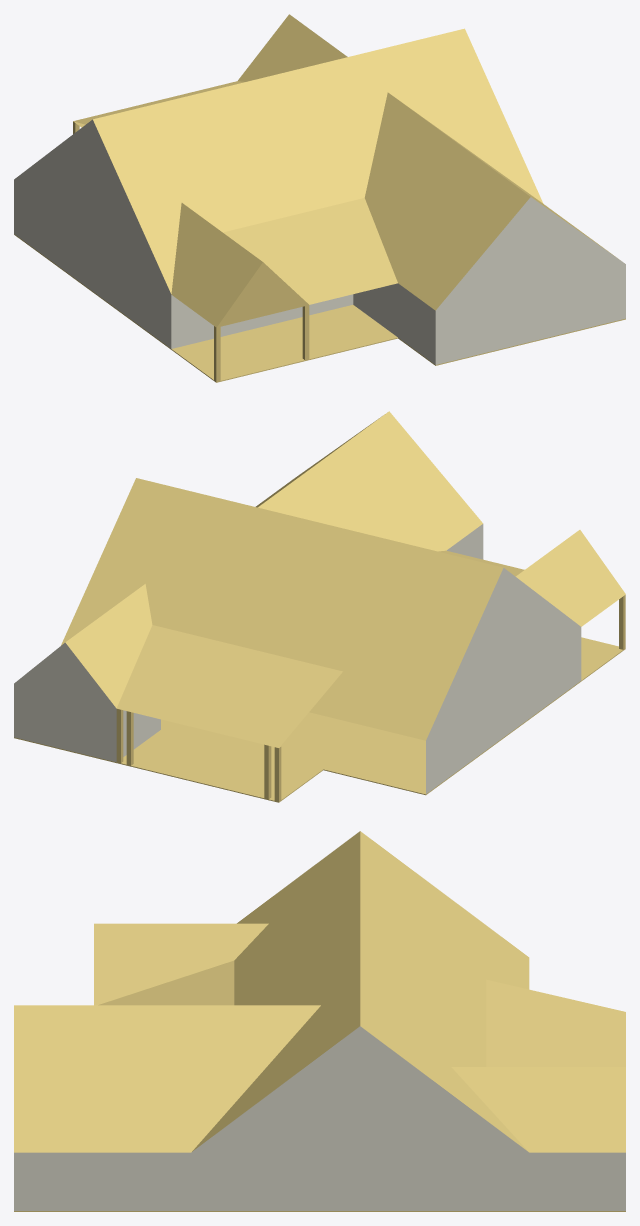
The model's file is house-edit.glb.
3 views of the same model, one above another, from view 1: azimuth 30°, elevation 25°; view 2: azimuth 150°, elevation 25°; view 3: azimuth 270°, elevation 25° (orthographic). The views are drawn at different scales.
Visible parts, largest first — view 1: object 4, object 5, Front, Left, object 2, object 23, object 6, object 27, object 11, object 28, object 13, object 8; view 2: object 14, Left, object 8, object 23, object 5, Back, object 6, object 11, object 24, object 27; view 3: right, object 16, object 14, object 4, object 10, object 8, object 3, object 2, object 23.
Part boxes in pixels (box(x1,y1,x2,y2)): object 4: box(93, 28, 543, 293); object 5: box(364, 92, 530, 310); Front: box(435, 197, 625, 364); Left: box(14, 119, 171, 348); object 2: box(223, 198, 397, 304); object 23: box(14, 234, 625, 382); object 6: box(171, 203, 262, 327); object 27: box(353, 283, 435, 364); object 11: box(238, 14, 347, 81); object 28: box(171, 294, 353, 348); object 13: box(217, 262, 308, 327); object 8: box(73, 81, 244, 124); object 14: box(61, 478, 503, 740); Left: box(426, 568, 581, 793); object 8: box(116, 625, 342, 747); object 23: box(14, 637, 625, 802); object 5: box(258, 411, 482, 551); Back: box(14, 642, 116, 762); object 6: box(515, 530, 625, 626); object 11: box(65, 584, 152, 708); object 24: box(123, 710, 160, 756); object 27: box(447, 524, 483, 559); right: box(14, 1026, 625, 1210); object 16: box(14, 1005, 320, 1152); object 14: box(360, 831, 529, 1151); object 4: box(192, 831, 360, 1151); object 10: box(451, 1067, 625, 1152); object 8: box(486, 979, 625, 1066); object 3: box(94, 923, 268, 1005); object 2: box(98, 960, 234, 1005); object 23: box(14, 1211, 625, 1211).
Size of the model in its own units: 43.01 by 19.1 by 57.
